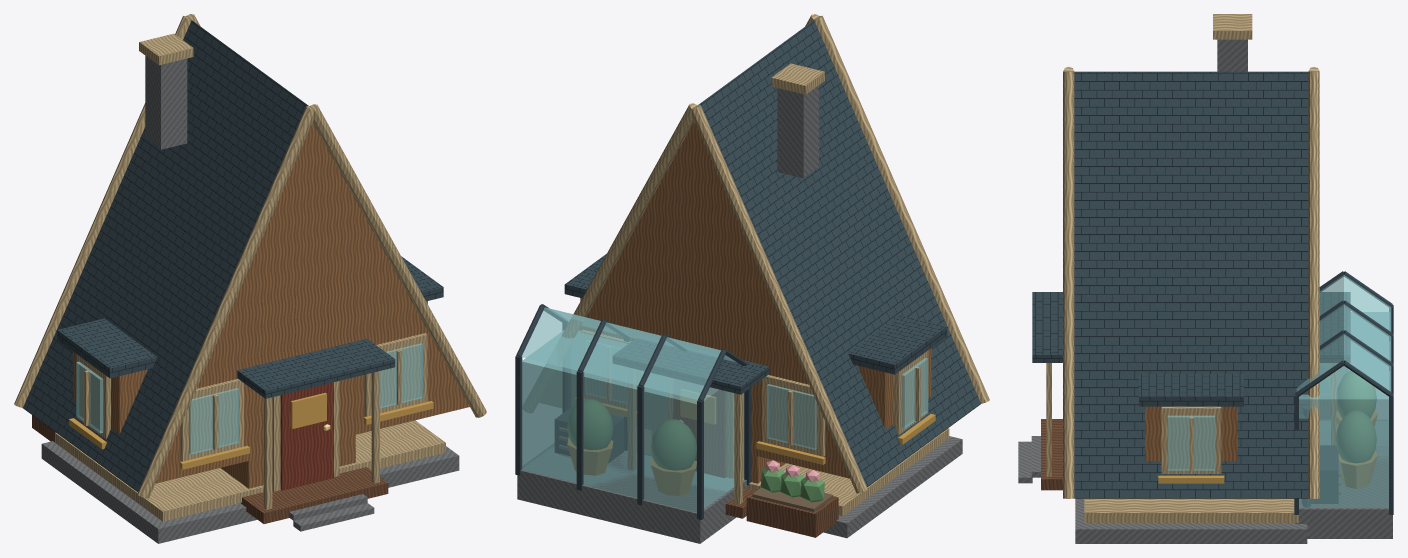
Rendered from house_aframe_lv5_greenhouse.glb.
The picture shows the model from 3 angles, left to right: view 1: azimuth 30°, elevation 25°; view 2: azimuth 150°, elevation 25°; view 3: azimuth 270°, elevation 25°; orthographic projection.
Parts seen in each view (by area): view 1: steep_roof, a_frame_gables, floor_trim, foundation, walls, a_frame_edge, front_porch_canopy, a_frame_edge.002, front_door, front_window_frame, chimney, a_frame_edge.001 (+17 smaller); view 2: steep_roof, a_frame_gables, greenhouse_glazing, greenhouse_roof, greenhouse_plinth, walls, a_frame_edge.001, a_frame_edge, back_porch_canopy, back_window_frame, chimney, left_dormer_cap (+28 smaller); view 3: steep_roof.001, greenhouse_glazing, greenhouse_roof, floor_trim, a_frame_edge.002, foundation, a_frame_edge.003, greenhouse_plinth, right_window_frame, right_dormer_cap, right_window_glass, front_porch_canopy (+13 smaller).
Part boxes in pixels (box(x1,y1,x2,y2)): steep_roof: box(23, 20, 308, 491); a_frame_gables: box(155, 122, 469, 483); floor_trim: box(55, 420, 445, 521); foundation: box(41, 441, 459, 543); walls: box(221, 271, 355, 488); a_frame_edge: box(137, 106, 314, 498); front_porch_canopy: box(237, 338, 395, 398); a_frame_edge.002: box(309, 104, 486, 417); front_door: box(280, 382, 333, 490); front_window_frame: box(180, 379, 243, 461); chimney: box(145, 56, 187, 149); a_frame_edge.001: box(14, 16, 191, 407); steep_roof: box(698, 20, 980, 487); a_frame_gables: box(579, 121, 849, 478); greenhouse_glazing: box(521, 331, 744, 512); greenhouse_roof: box(521, 307, 735, 399); greenhouse_plinth: box(517, 446, 746, 543); walls: box(651, 269, 785, 483); a_frame_edge.001: box(692, 105, 867, 493); a_frame_edge: box(814, 15, 989, 403); back_porch_canopy: box(613, 338, 768, 394); back_window_frame: box(762, 375, 825, 456); chimney: box(777, 85, 818, 178); left_dormer_cap: box(848, 315, 947, 374); steep_roof.001: box(1074, 71, 1308, 498); greenhouse_glazing: box(1299, 312, 1389, 507); greenhouse_roof: box(1296, 275, 1391, 391); floor_trim: box(1084, 498, 1298, 522); a_frame_edge.002: box(1063, 71, 1074, 498); foundation: box(1075, 498, 1307, 543); a_frame_edge.003: box(1308, 71, 1319, 498); greenhouse_plinth: box(1295, 433, 1392, 538); right_window_frame: box(1161, 406, 1221, 473); right_dormer_cap: box(1139, 373, 1243, 406); right_window_glass: box(1167, 415, 1214, 470); front_porch_canopy: box(1032, 292, 1062, 362).
Bounding box in the file's own units: 6.6 × 7.6 × 6.19.
Materials: 13 (7 with a texture image).
